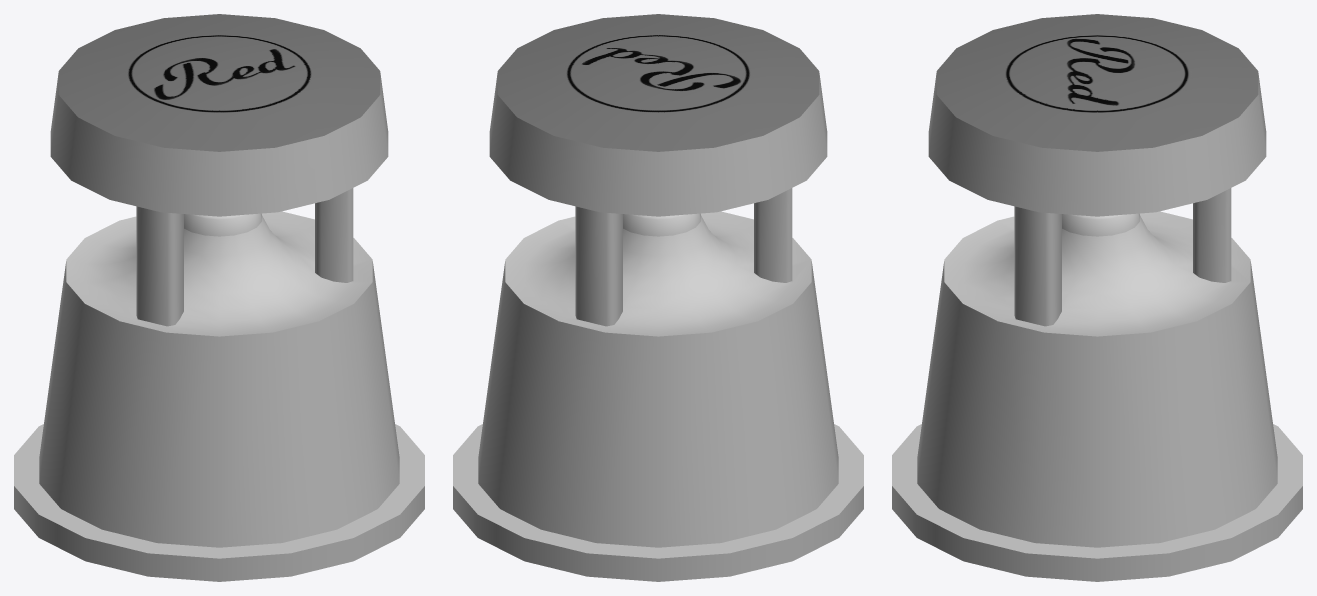
Rendered from outdoor_speaker.dae.
3 views of the same model, side by side, from view 1: azimuth 30°, elevation 25°; view 2: azimuth 150°, elevation 25°; view 3: azimuth 270°, elevation 25° (orthographic).
Visible parts, largest first — view 1: speaker (×6); view 2: speaker (×6); view 3: speaker (×6).
Part boxes in pixels (x1,y1,x2,y2): speaker (×6): [14, 14, 424, 581]; speaker (×6): [453, 14, 863, 581]; speaker (×6): [892, 14, 1302, 581].
Size of the model in its own units: 12.76 by 12.56 by 14.31.
